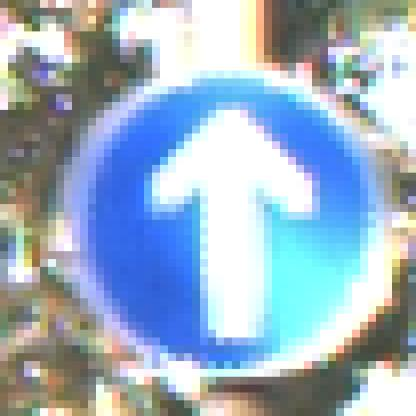AheadOnly: (49, 48, 377, 378)
